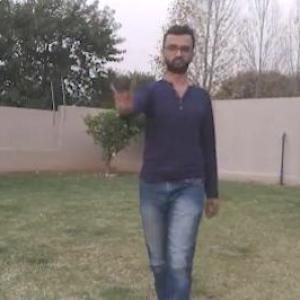takeoff-hand: (105, 71, 137, 118)
